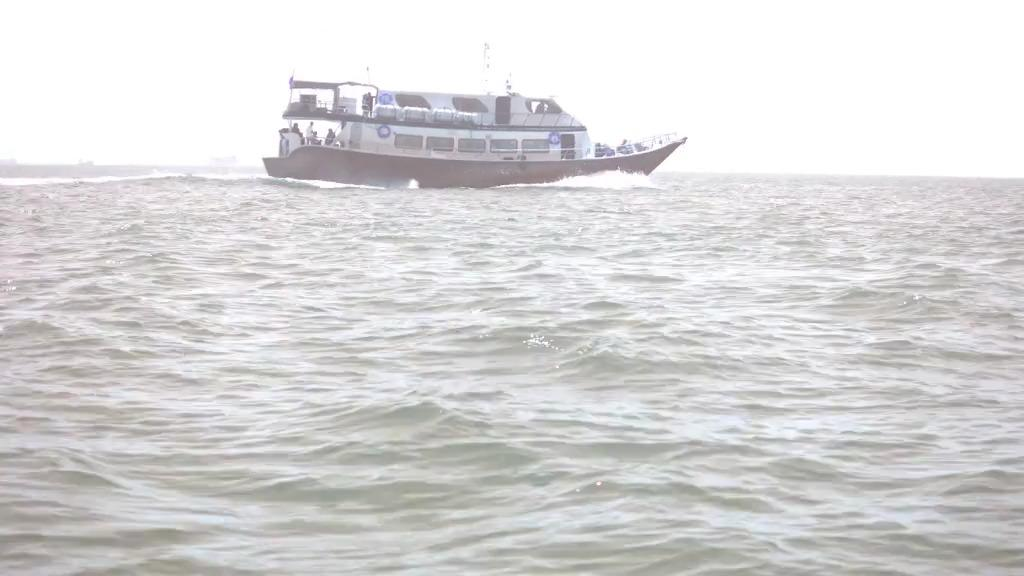PassengerShip: (257, 36, 691, 198)
